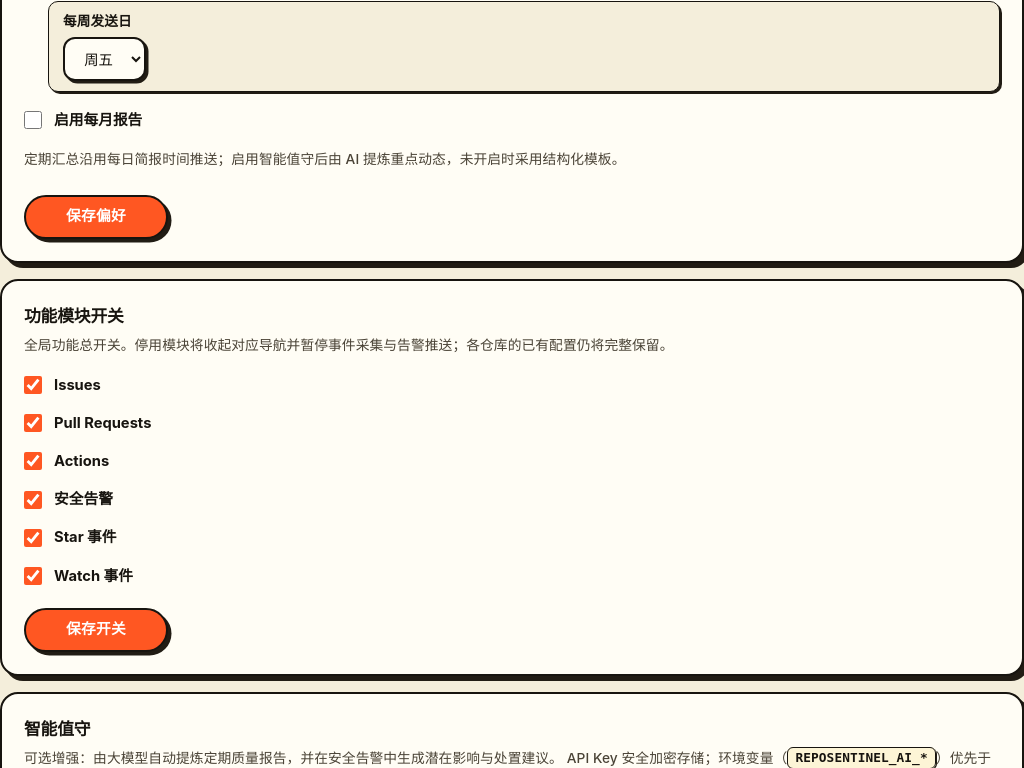
it: 设置页 › 保存开关成功后在功能模块区块内展示提示
(page scrolled)
Click the checkbox labelled "Issues".
click(33, 385)  # box [24, 376, 42, 394]
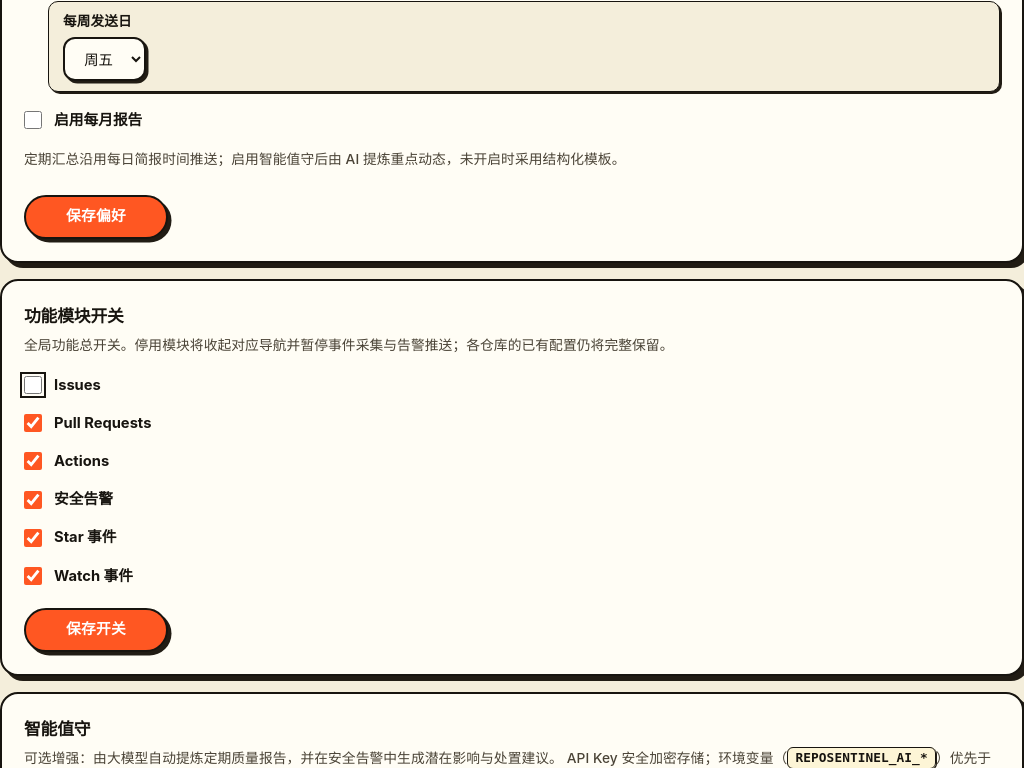
Click the button "保存开关".
click(96, 630)  # box [24, 608, 168, 652]
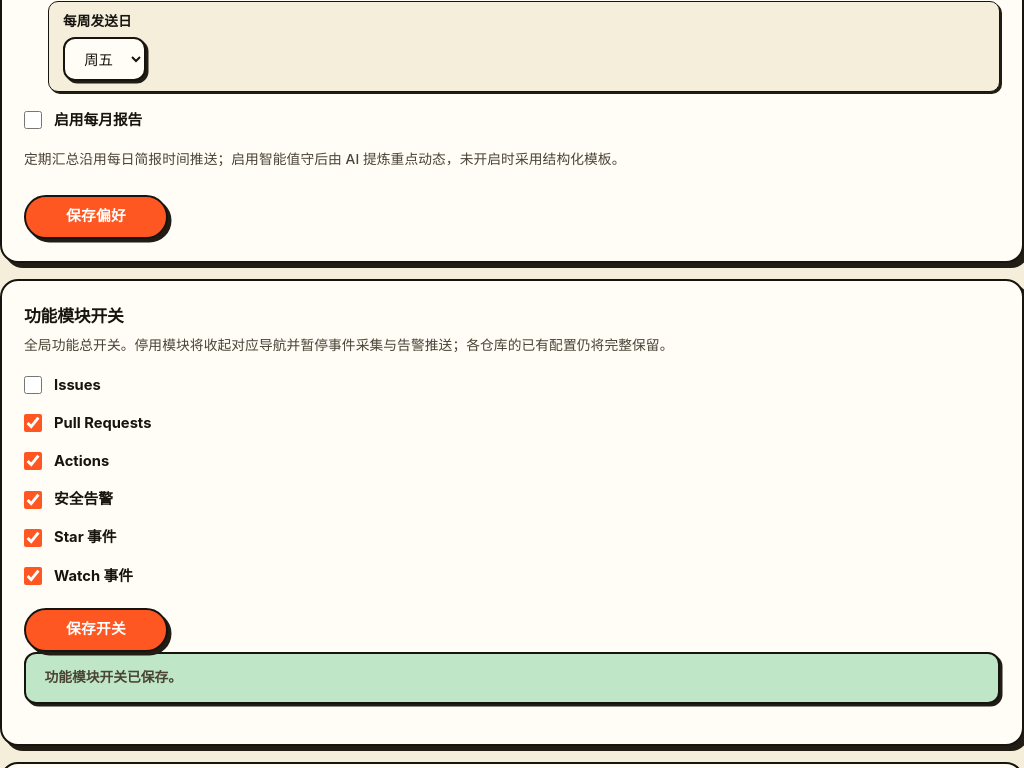
Now the text "功能模块开关已保存。" is shown, box [24, 652, 1000, 704]
